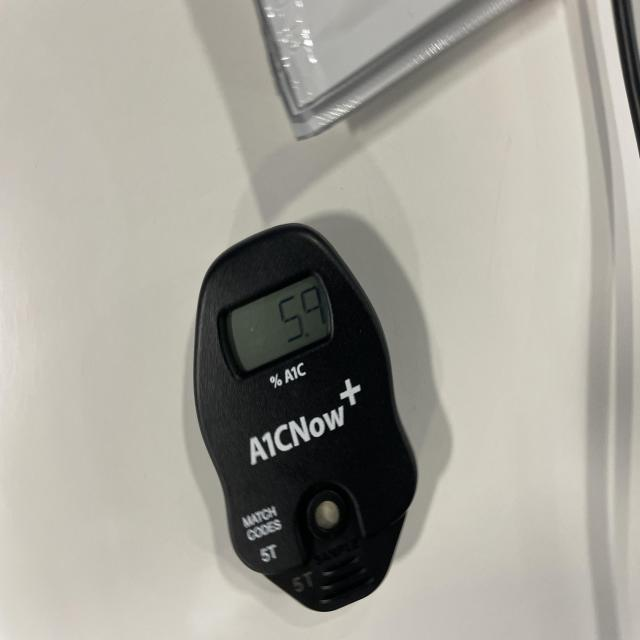hba1c: (188, 224, 419, 614)
